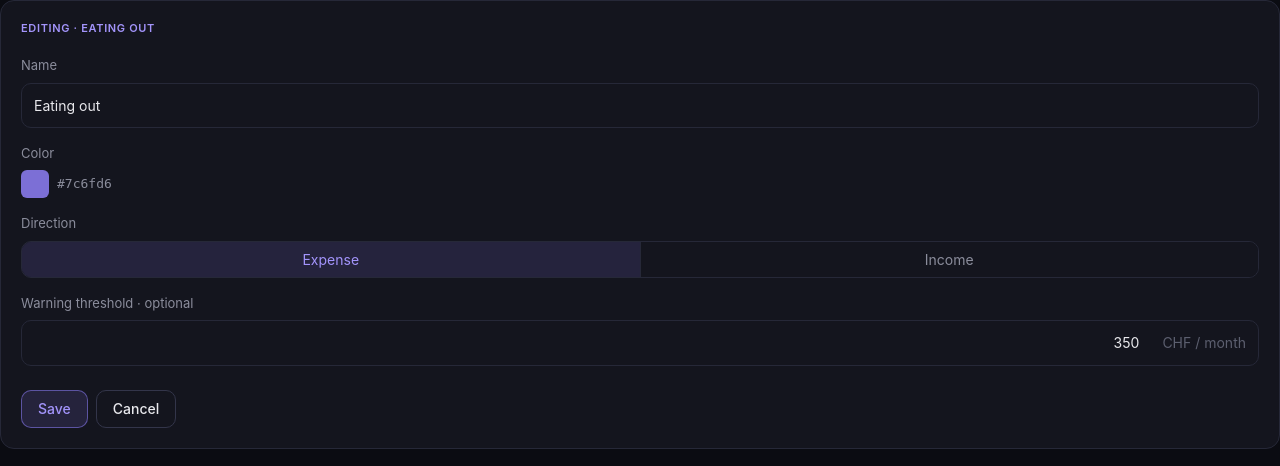
Test case: CategoryEditor › Save is disabled when the name is blank
Clear the field labelled "Name": point(640, 105) x1=21 y1=83 x2=1259 y2=128
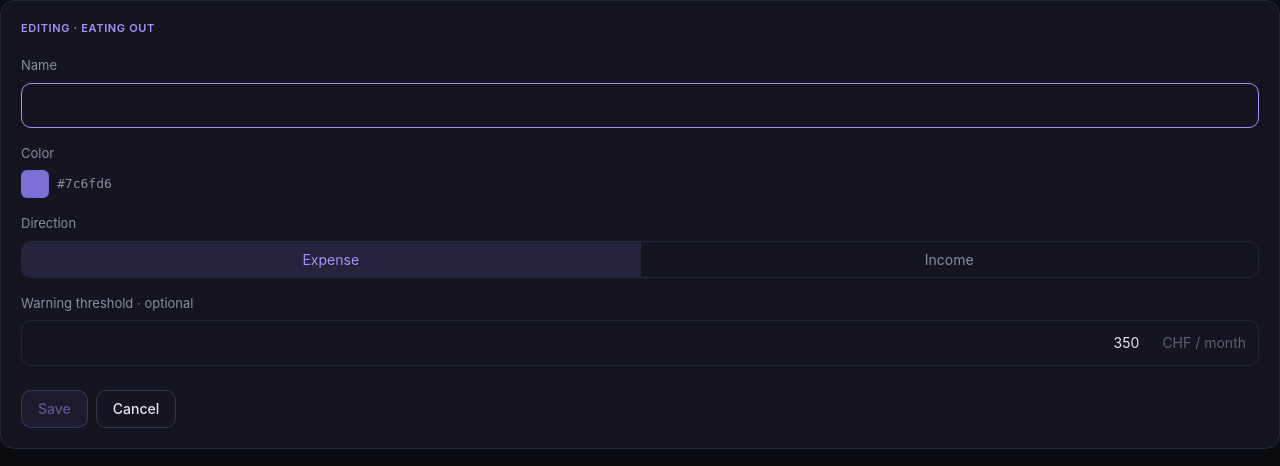
Check: the button "Save" is disabled, box x1=21 y1=390 x2=88 y2=428
